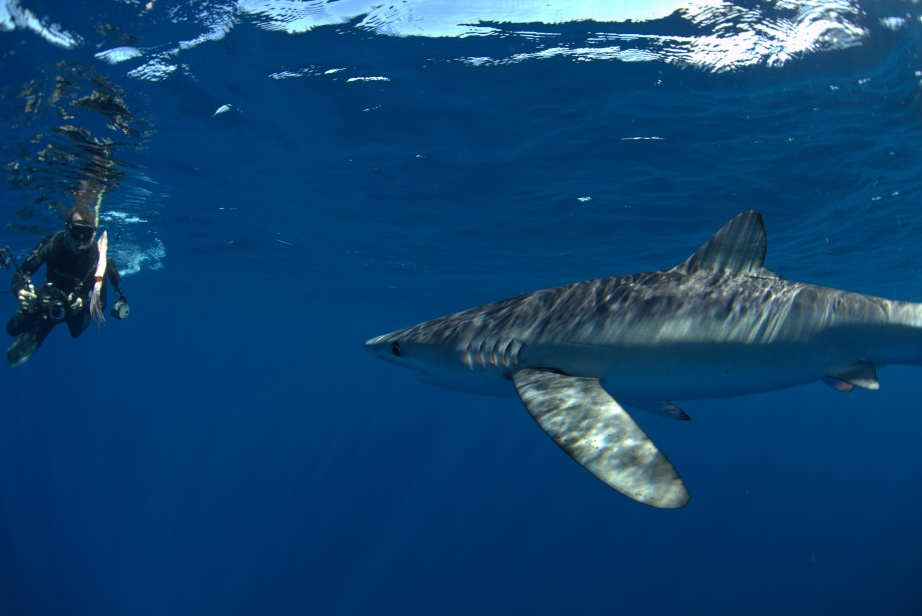Azul: (355, 193, 922, 522)
